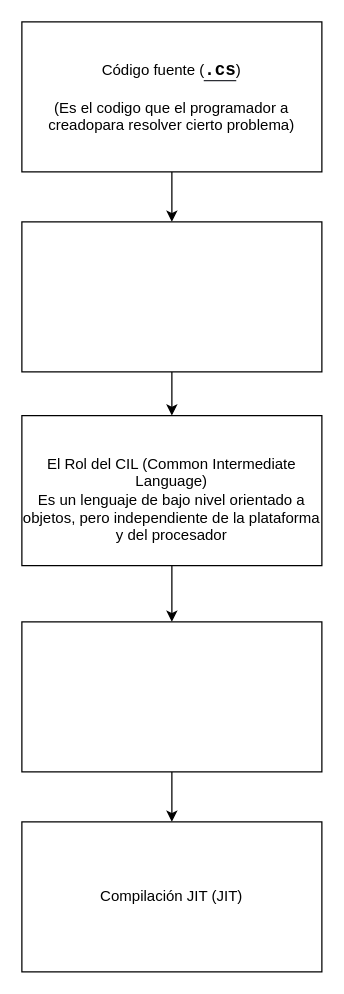
The diagram is 344 pixels wide and 994 high, and some of its shapes have lost their labels. The shapes that lost their labels are listed below. From the top down, each one's box as (x1, y1, x2, y2) in pixels, then its label:
(21, 221, 322, 372): Compilación a Tiempo de Compilación (Roslyn)
(21, 621, 322, 772): Carga y Ejecución por la CLR
